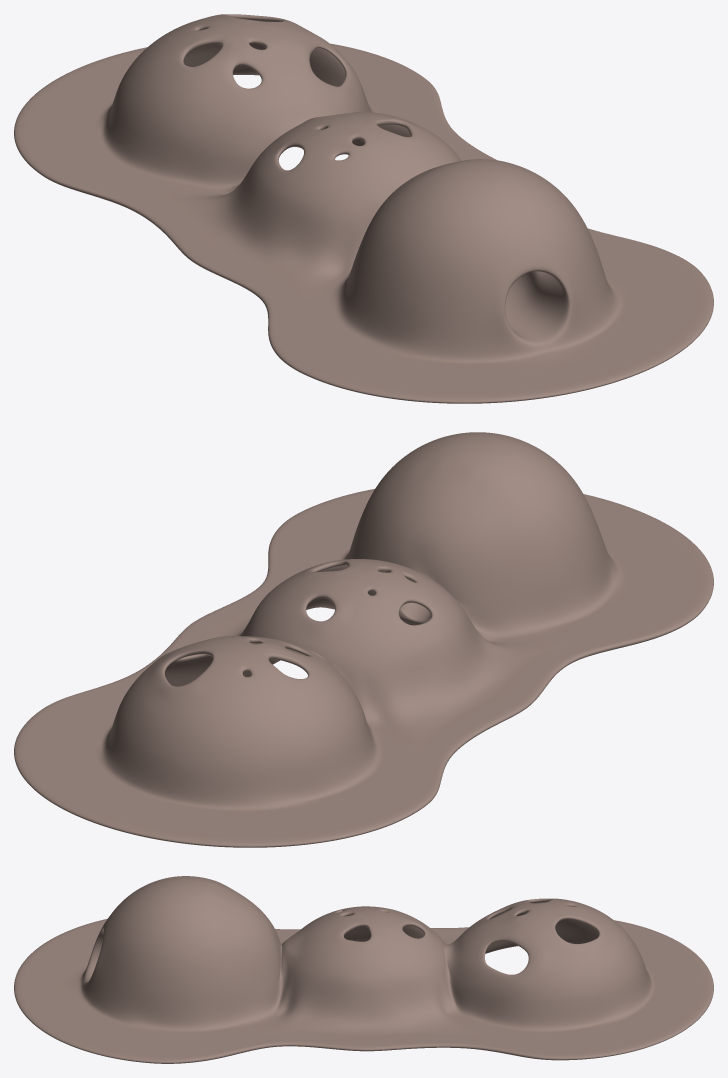
The model's file is Cueva_chica.fbx.
3 renders of one model, top to bottom at view 1: azimuth 30°, elevation 25°; view 2: azimuth 150°, elevation 25°; view 3: azimuth 270°, elevation 25°, orthographic. The views are drawn at different scales.
Parts seen in each view (by area): view 1: cueva; view 2: cueva; view 3: cueva.
Boxes of the visible parts, bbox=[...] form: cueva: bbox=[14, 14, 713, 403]; cueva: bbox=[14, 432, 713, 847]; cueva: bbox=[14, 876, 713, 1063].
Size of the model in its own units: 669 by 237 by 1316.
